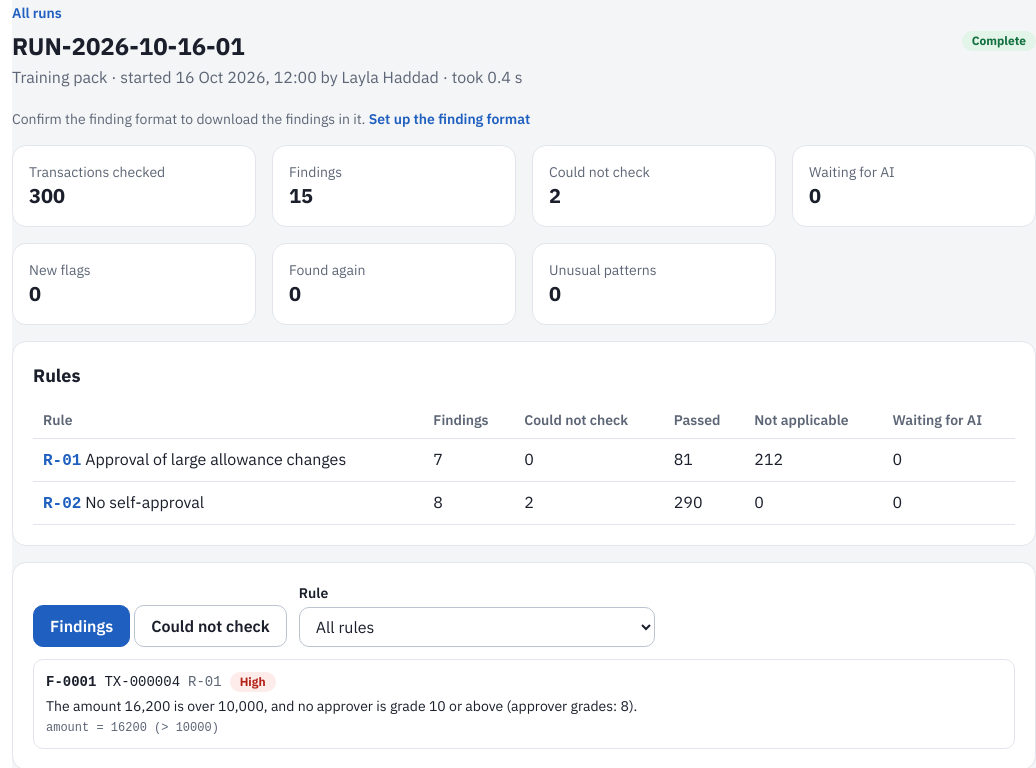
Test case: RunPage › lists transactions that couldn't be checked, with what was missing
Click the button "Could not check" at (210, 626), box [134,605,287,647]
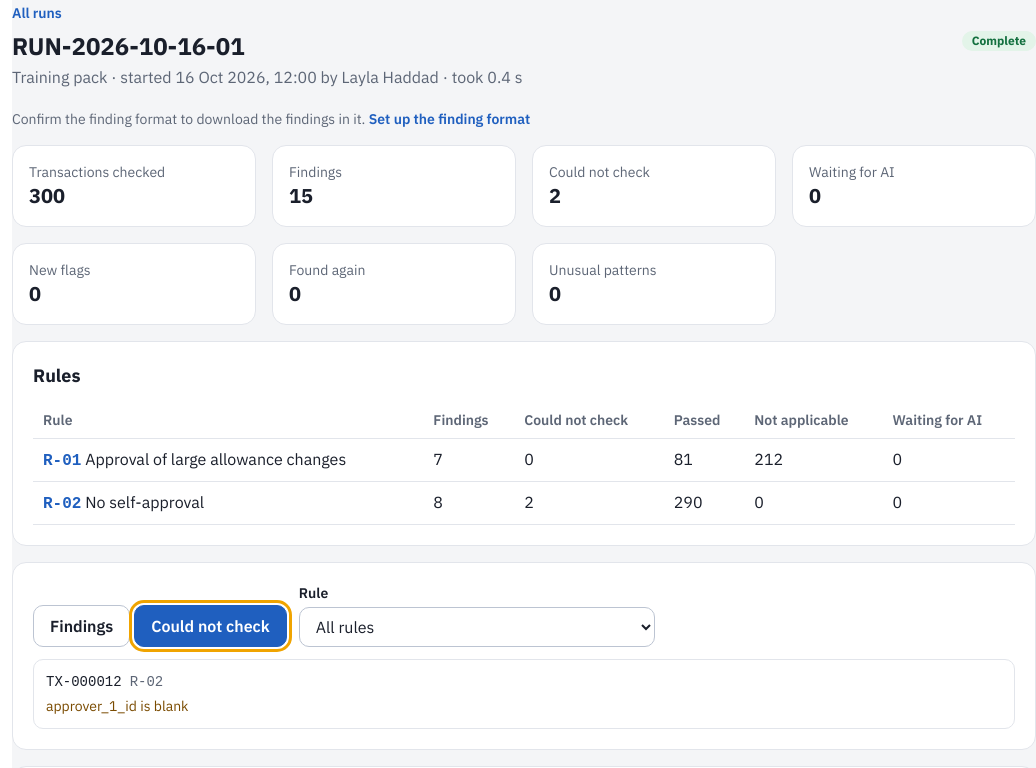
Expected: the text "approver_1_id is blank" is shown, [46,697,188,715]
